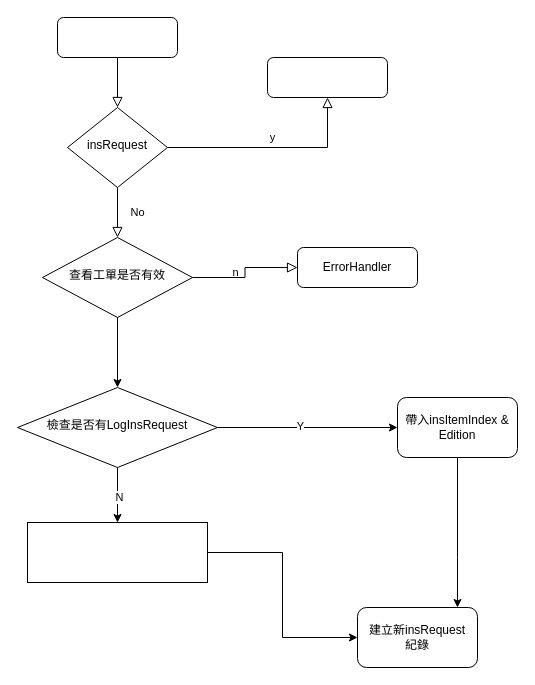
The diagram is 535 pixels wide and 685 high, and some of its shapes have lost their labels. The centre of each missing label's shape, as x and y in pixels:
tempInsItemsIndexLogID = string.Empty;: pixel 117 552
woID: pixel 117 37
回傳現有insRequest紀錄LogID: pixel 327 77
